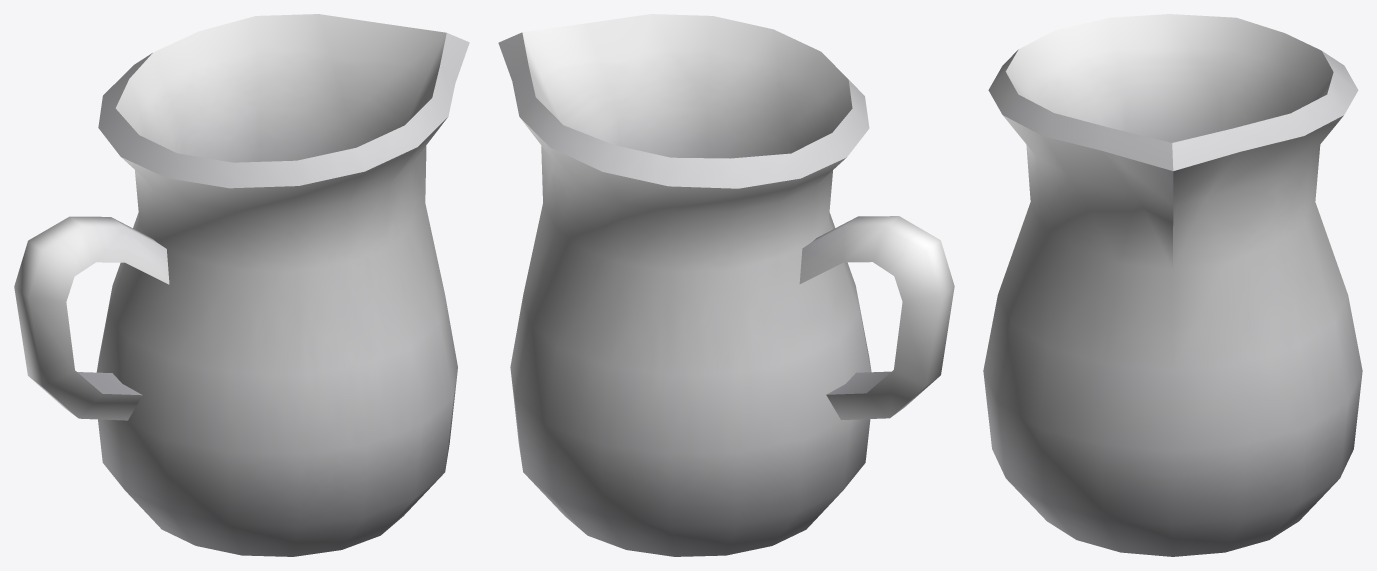
File: m_Pitcher01_Full.fbx
3 renders of one model, left to right at view 1: azimuth 30°, elevation 25°; view 2: azimuth 150°, elevation 25°; view 3: azimuth 270°, elevation 25°, orthographic. The views are drawn at different scales.
Visible parts, largest first — view 1: m_Pitcher01_Full; view 2: m_Pitcher01_Full; view 3: m_Pitcher01_Full.
Part boxes in pixels (x1,y1,x2,y2): m_Pitcher01_Full: (14,14,469,556); m_Pitcher01_Full: (498,14,954,556); m_Pitcher01_Full: (983,14,1362,556).
Bounding box in the file's own units: 22.7 × 20.68 × 16.08.
